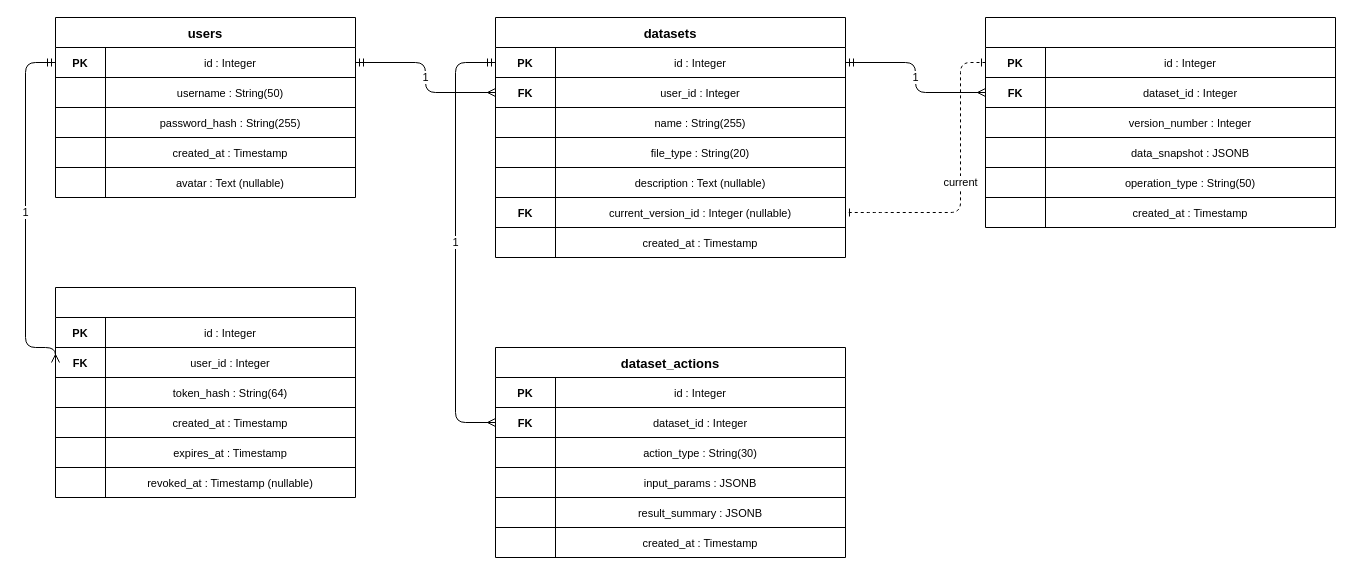
Image size: 1353x575. Some labels were removed from this diagram. The shapes that lost their labels are listed below. From the top down, each one's box as (x1, y1, x2, y2) in pixels, then its label:
(984, 16, 1336, 228): dataset_versions
(54, 286, 356, 498): auth_sessions
